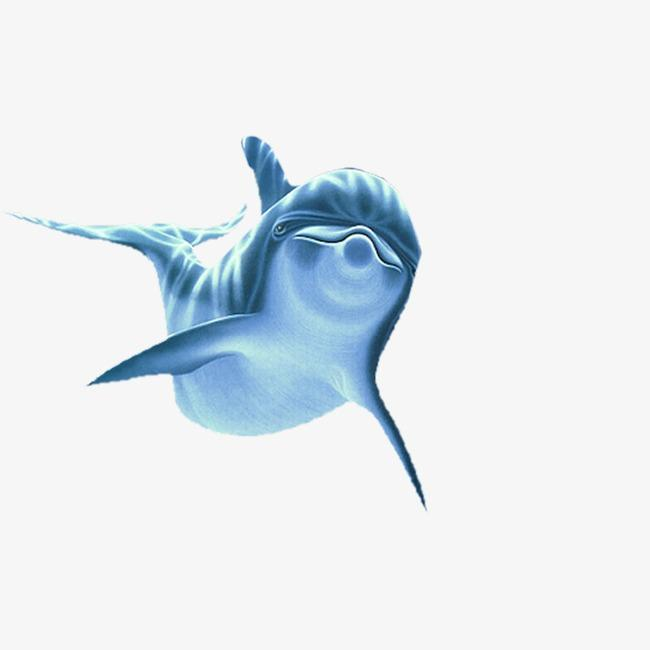fish: (3, 137, 436, 506)
